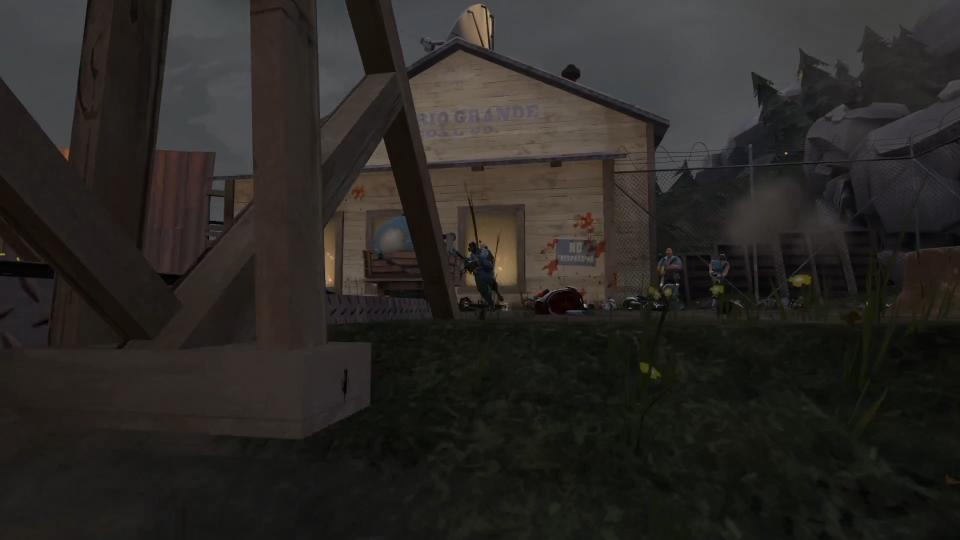Enemy: (444, 233, 508, 319), (658, 248, 683, 291), (710, 254, 730, 306)
